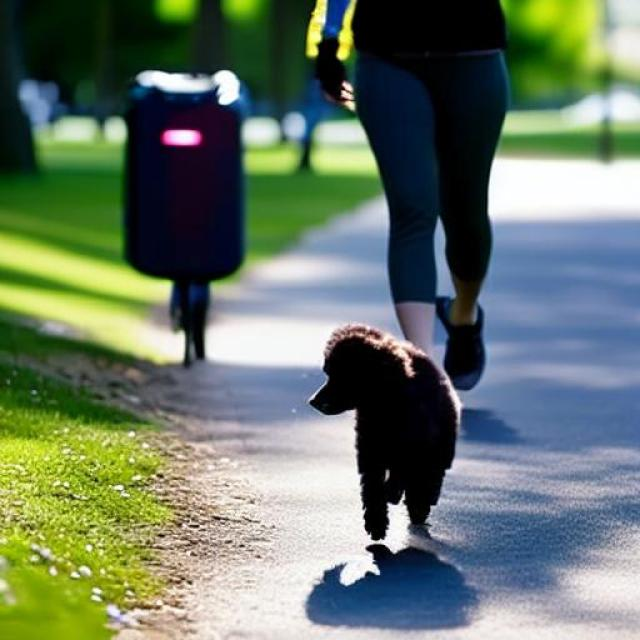Unleashed_Dog: (307, 52, 462, 542)
